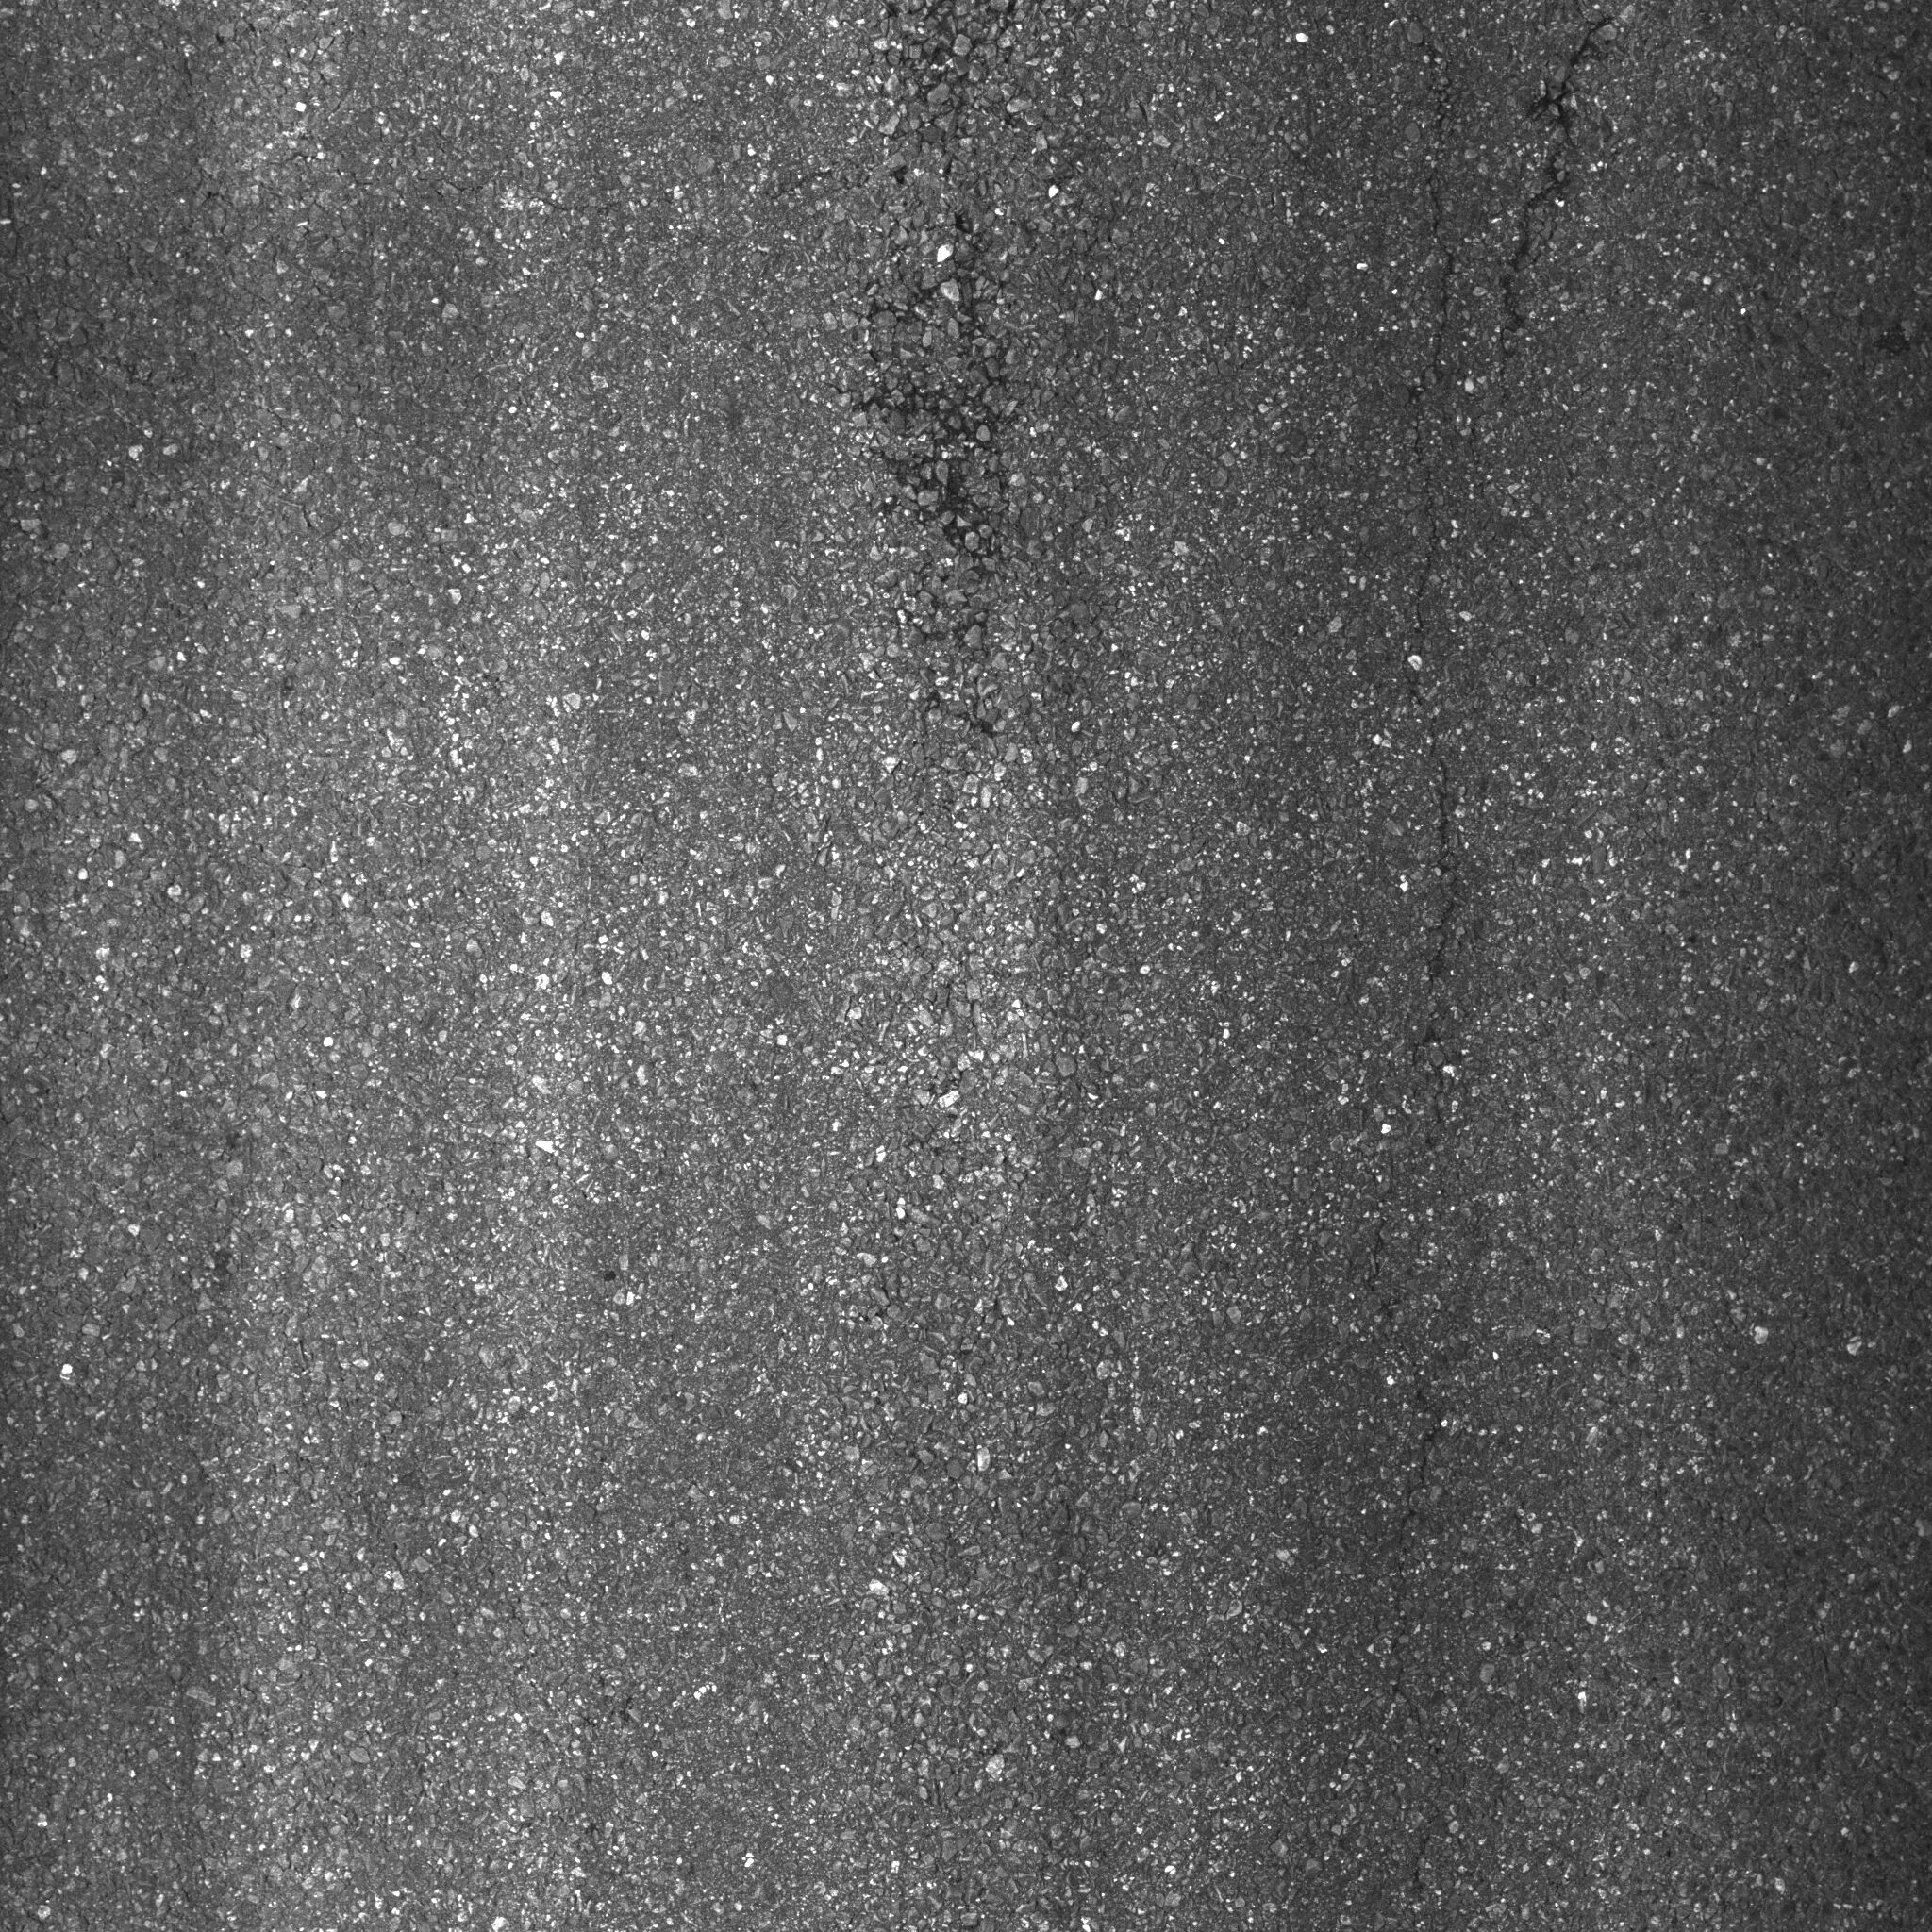longitudinal: (1384, 368, 1472, 1916), (1472, 5, 1640, 433)
